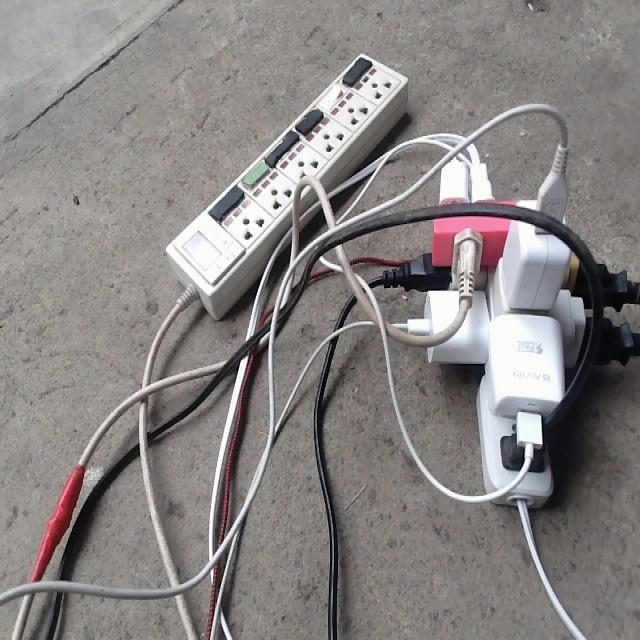-: (409, 155, 614, 504)
